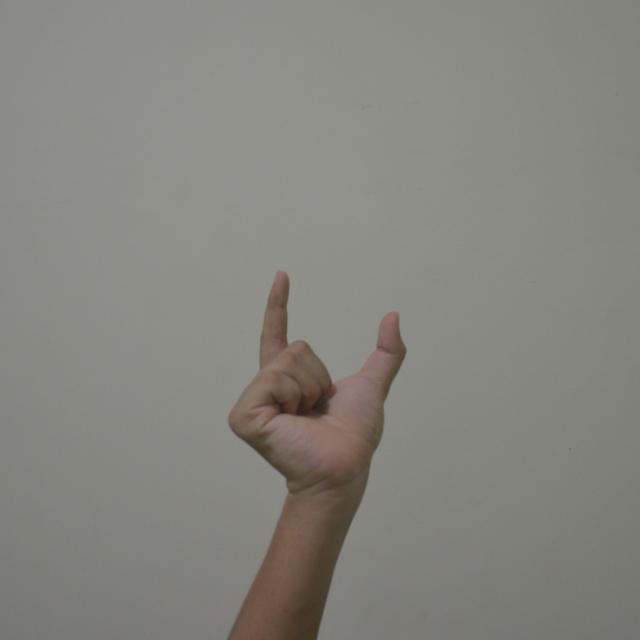U: (216, 254, 436, 516)
